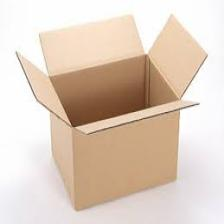cardboard: (17, 10, 207, 202)
